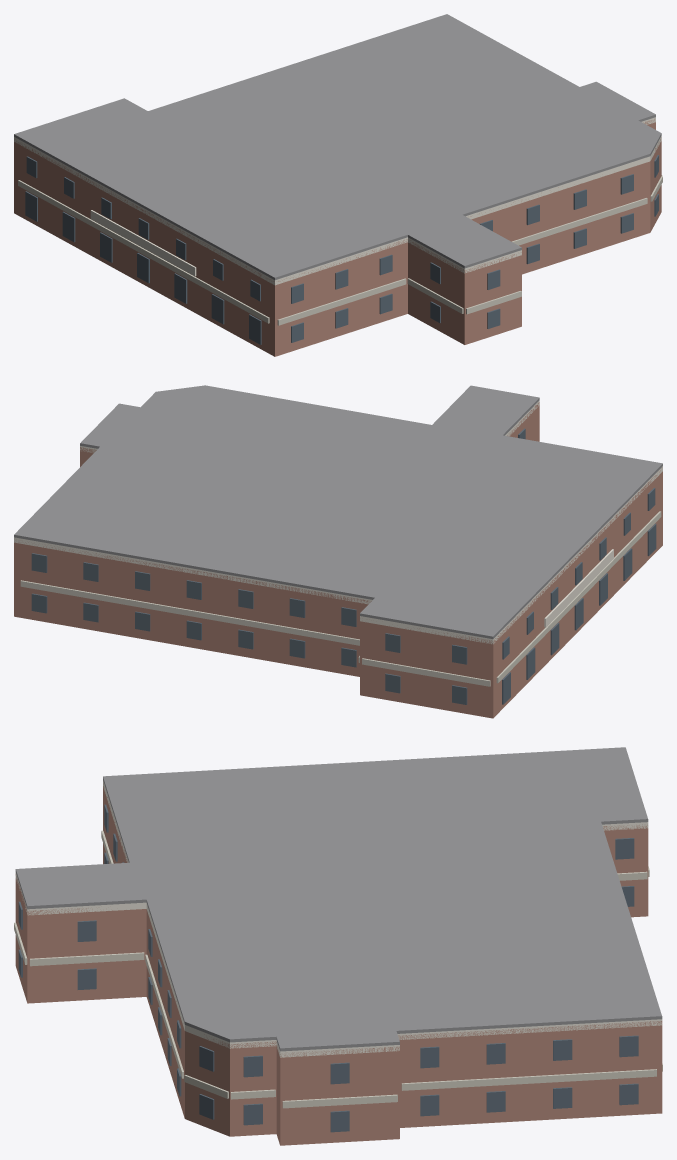
File: d_walgreens.glb
The picture shows the model from 3 angles, top to bottom: view 1: azimuth 30°, elevation 25°; view 2: azimuth 150°, elevation 25°; view 3: azimuth 270°, elevation 25°; orthographic projection. The views are drawn at different scales.
Parts seen in each view (by area): view 1: roofcap, mass, cornice, bandW_4, blankW, bandW_9, bandW_5; view 2: roofcap, mass, cornice, bandW_1, bandW_4, bandW_3, blankW; view 3: roofcap, mass, cornice, bandW_0, bandW_13, bandW_8, bandW_9.
Part boxes in pixels (bbox=[...]): roofcap: bbox=[14, 14, 661, 280]; mass: bbox=[14, 119, 661, 356]; cornice: bbox=[14, 117, 661, 285]; bandW_4: bbox=[18, 180, 269, 323]; blankW: bbox=[90, 210, 196, 276]; bandW_9: bbox=[512, 198, 647, 245]; bandW_5: bbox=[277, 278, 406, 325]; roofcap: bbox=[14, 385, 662, 638]; mass: bbox=[14, 402, 662, 718]; cornice: bbox=[14, 400, 662, 644]; bandW_1: bbox=[20, 580, 359, 645]; bandW_4: bbox=[496, 511, 661, 683]; bandW_3: bbox=[362, 658, 490, 686]; blankW: bbox=[544, 549, 613, 627]; roofcap: bbox=[15, 747, 662, 1051]; mass: bbox=[15, 786, 662, 1145]; cornice: bbox=[15, 780, 662, 1057]; bandW_0: bbox=[401, 1069, 656, 1090]; bandW_13: bbox=[282, 1094, 397, 1108]; bandW_8: bbox=[29, 952, 144, 966]; bandW_9: bbox=[145, 954, 183, 1078].
Bounding box in the file's own units: 48.6 × 7.3 × 44.11.
